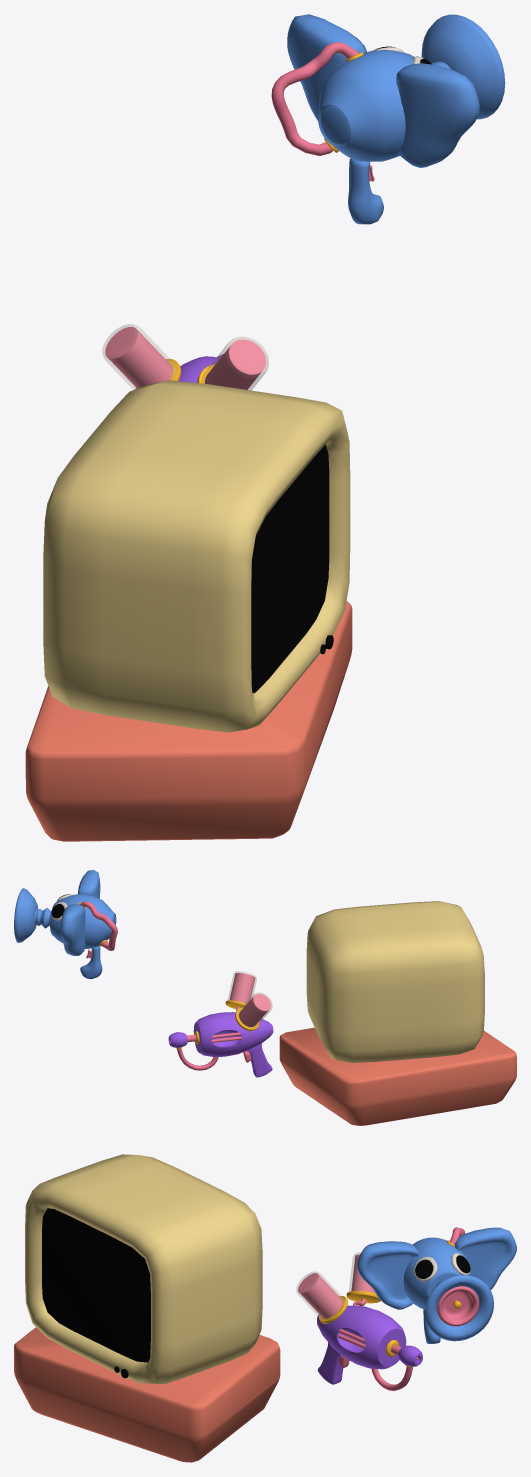
The picture shows the model from 3 angles, top to bottom: view 1: azimuth 30°, elevation 25°; view 2: azimuth 150°, elevation 25°; view 3: azimuth 270°, elevation 25°; orthographic projection. The views are drawn at different scales.
Visible parts, largest first — view 1: P4Monitor, Plane.173, Cube.145, Cube.119, ExpandGun, Cylinder.054, Cylinder.059, Cylinder.053, Plane.581, Cube.120; view 2: P4Monitor, Plane.173, Spraygun, Cube.119, ExpandGun, Cylinder.054, Cylinder.053, Cylinder.059, Cube.118, Plane.581, Cube.120, Cylinder.052; view 3: P4Monitor, Plane.173, Cube.145, Cube.119, Spraygun, Cylinder.059, ExpandGun, Cylinder.054, Cylinder.053, Cylinder.058, Cube.118, Cylinder.052 (+4 smaller).
Boxes of the visible parts, left/top/right/bottom form: P4Monitor: left=43, top=380, right=350, bottom=732; Plane.173: left=25, top=601, right=352, bottom=841; Cube.145: left=251, top=444, right=329, bottom=693; Cube.119: left=287, top=14, right=479, bottom=167; ExpandGun: left=318, top=50, right=414, bottom=161; Cylinder.054: left=102, top=324, right=268, bottom=390; Cylinder.059: left=421, top=14, right=505, bottom=119; Cylinder.053: left=105, top=326, right=266, bottom=389; Plane.581: left=271, top=42, right=359, bottom=155; Cube.120: left=348, top=158, right=383, bottom=224; P4Monitor: left=306, top=901, right=484, bottom=1062; Plane.173: left=279, top=1027, right=516, bottom=1125; Spraygun: left=193, top=1012, right=273, bottom=1057; Cube.119: left=60, top=870, right=100, bottom=955; ExpandGun: left=50, top=894, right=116, bottom=948; Cylinder.054: left=228, top=971, right=272, bottom=1027; Cylinder.053: left=229, top=972, right=271, bottom=1026; Cylinder.059: left=14, top=888, right=38, bottom=942; Cube.118: left=247, top=1043, right=272, bottom=1077; Plane.581: left=79, top=901, right=117, bottom=950; Cube.120: left=80, top=946, right=102, bottom=979; Cylinder.052: left=225, top=1000, right=259, bottom=1030; P4Monitor: left=25, top=1154, right=262, bottom=1383; Plane.173: left=14, top=1327, right=280, bottom=1462; Cube.145: left=42, top=1208, right=150, bottom=1362; Cube.119: left=357, top=1227, right=516, bottom=1309; Spraygun: left=317, top=1305, right=406, bottom=1369; Cylinder.059: left=425, top=1275, right=493, bottom=1341; ExpandGun: left=403, top=1237, right=471, bottom=1309; Cylinder.054: left=296, top=1252, right=374, bottom=1319; Cylinder.053: left=298, top=1254, right=375, bottom=1318; Cylinder.058: left=437, top=1286, right=479, bottom=1326; Cube.118: left=317, top=1342, right=343, bottom=1384; Cylinder.052: left=319, top=1291, right=380, bottom=1323.
Size of the model in its own units: 103 by 63.14 by 94.88.
